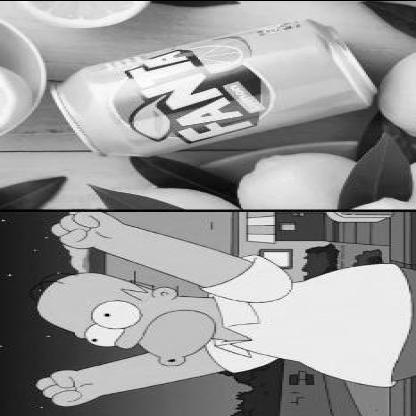alumunium_can: (50, 19, 382, 158)
